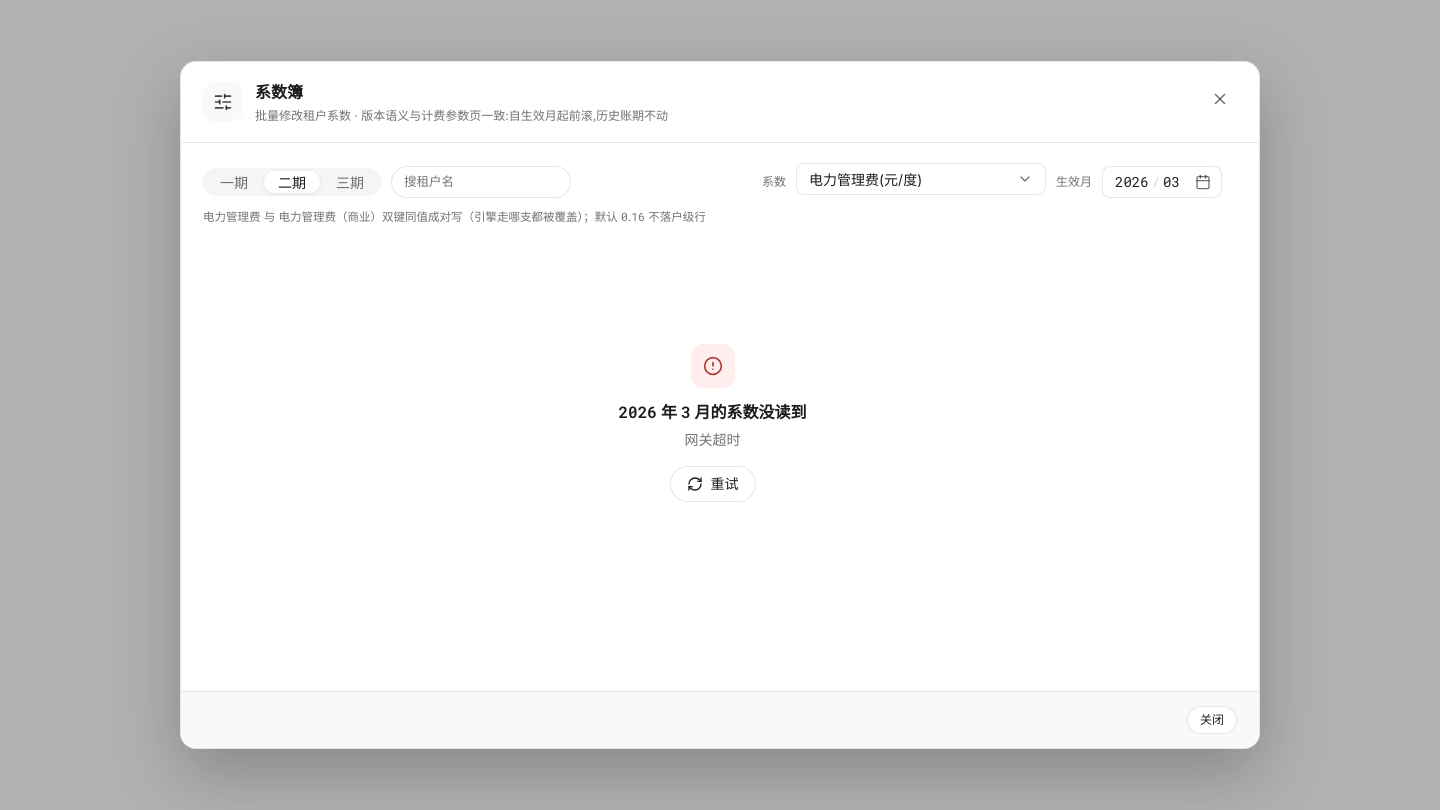
系数簿 › ❗加载失败:FPLoadError 换掉表格(不关窗),点重试重拉,拉到了表格回来
Check: the message with class "error" shows "2026 年 3 月的系数没读到", box x1=618 y1=402 x2=806 y2=422
Check: the message with class "error" shows "网关超时", box x1=684 y1=431 x2=740 y2=448
Click the button "重试".
click(712, 484)  # box x1=670 y1=466 x2=756 y2=502
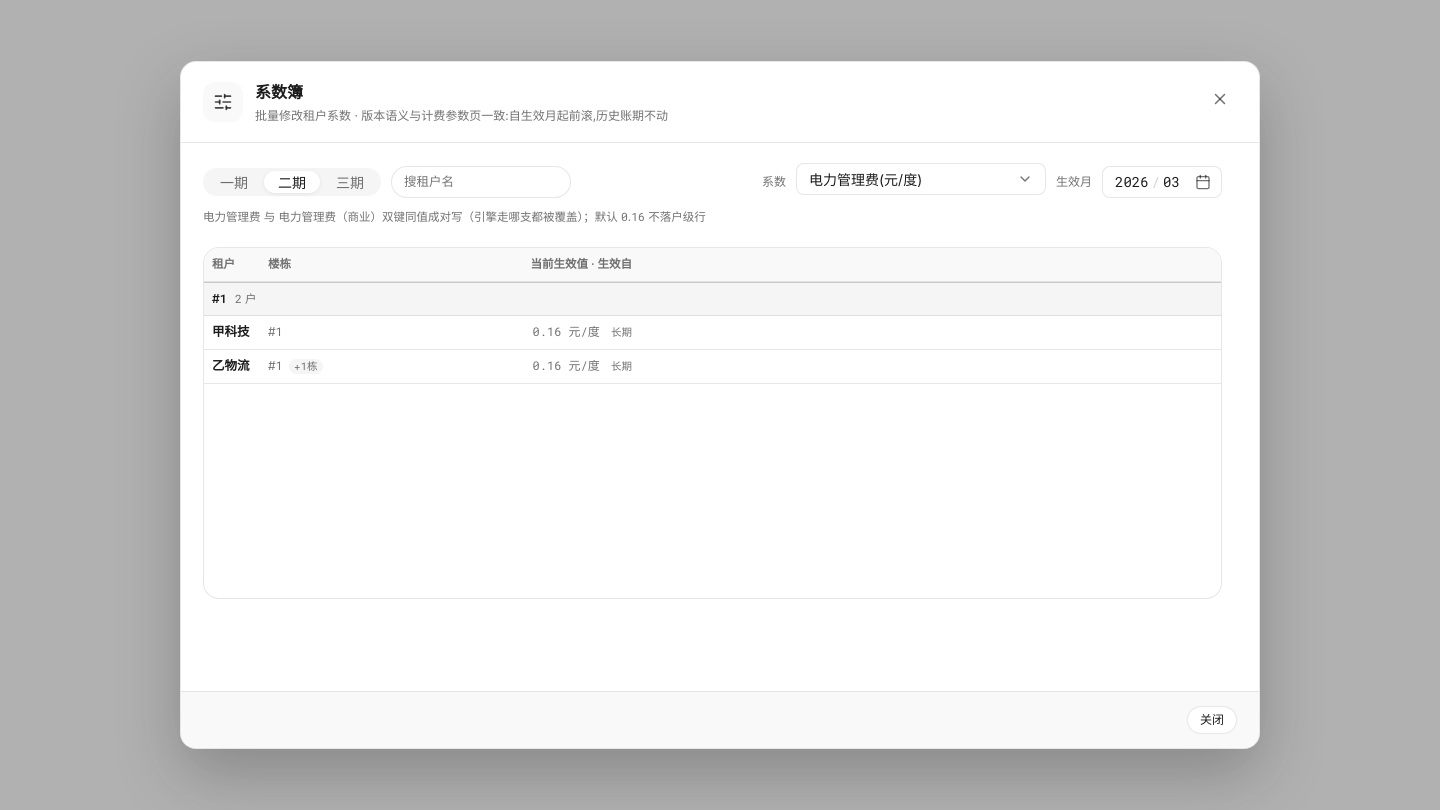
Check: the table with class "cb-table" is shown, box x1=204 y1=248 x2=1221 y2=384
